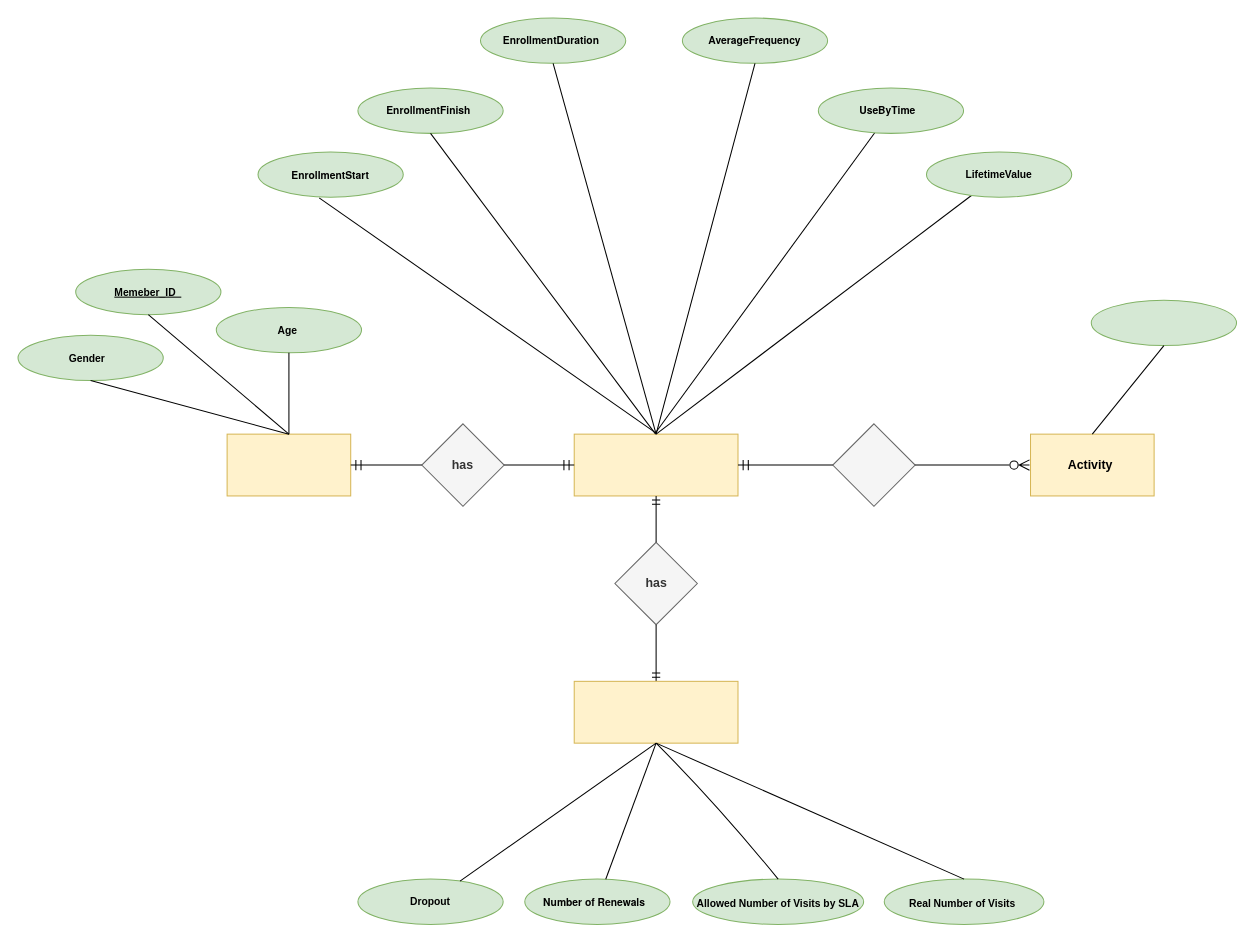
The diagram is 1255 pixels wide and 942 high, and some of its shapes have lost their labels. Each missing label, with the centre of its shape:
Activity_Name: the point at 1163,322
Enrolls: the point at 873,464
Member: the point at 288,464
Membership: the point at 655,464
Membership Status: the point at 655,711
